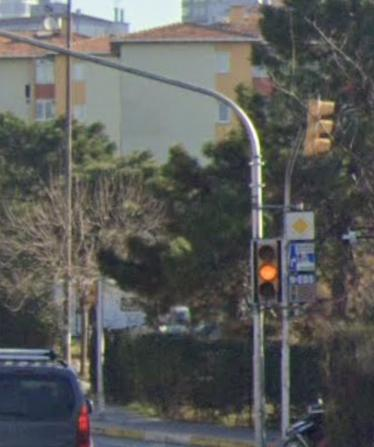yellowlight: (251, 237, 279, 308)
